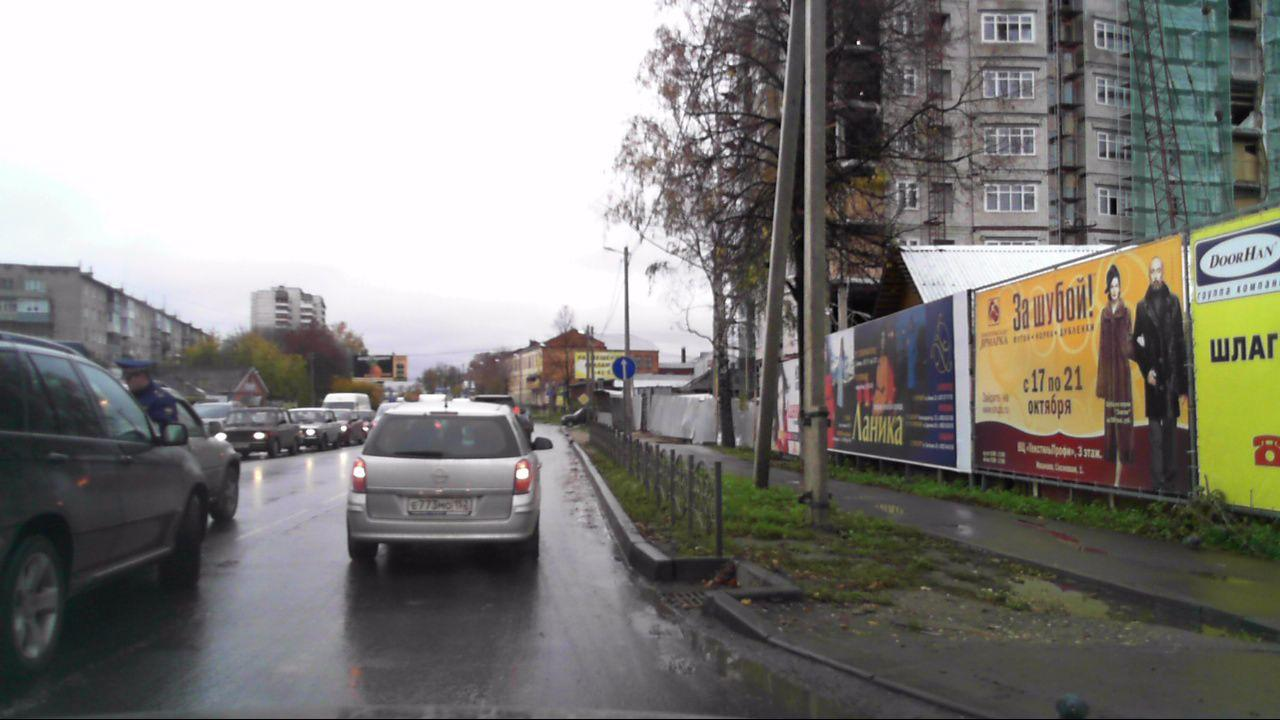road_sign: (611, 356, 637, 380)
